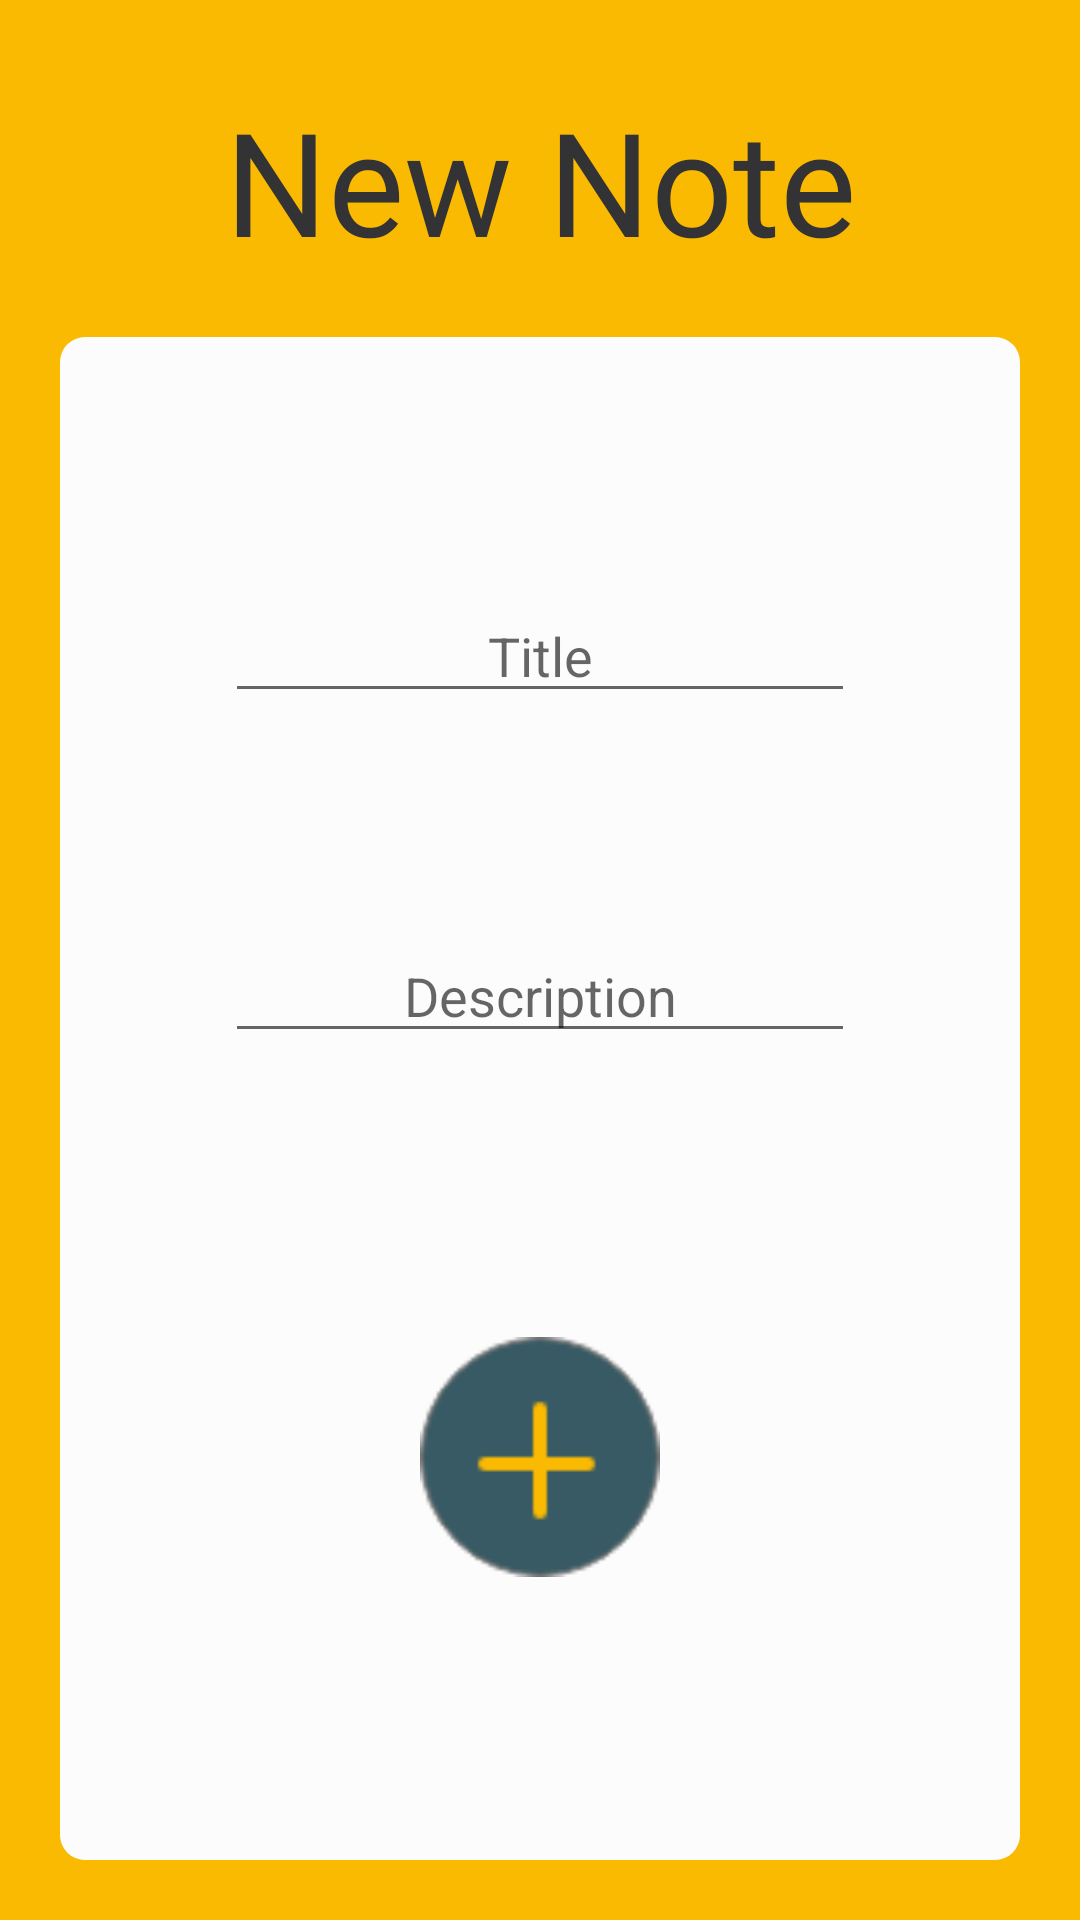

Named icons in this screenshot (1080px x 1920px) and their bounding boxes, (x1=x1, y1=y1, x2=x2, y2=y2):
addbtn: (x1=420, y1=1337, x2=660, y2=1577)
